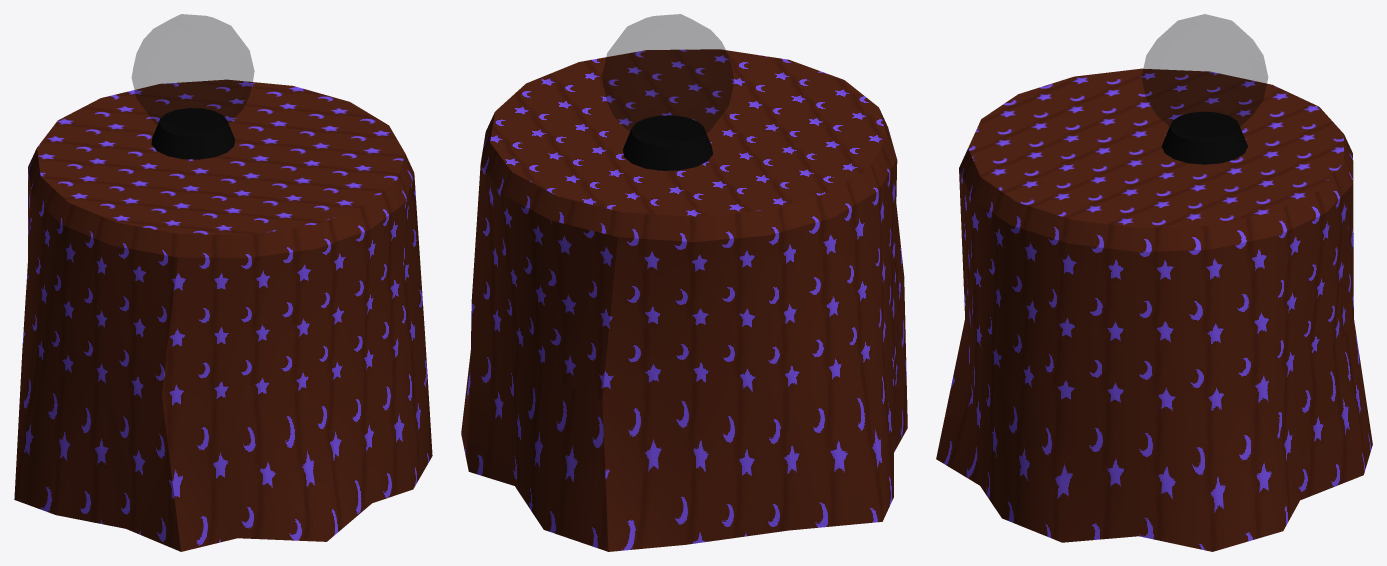
The model's file is propitonisa.FBX.
3 renders of one model, left to right at view 1: azimuth 30°, elevation 25°; view 2: azimuth 150°, elevation 25°; view 3: azimuth 270°, elevation 25°, orthographic. The views are drawn at different scales.
Parts seen in each view (by area): view 1: taula_pitonisa, taula_pitonisa_pla, bola_vidre_pitonisa, bola_base_pitonisa; view 2: taula_pitonisa, taula_pitonisa_pla, bola_vidre_pitonisa, bola_base_pitonisa; view 3: taula_pitonisa, taula_pitonisa_pla, bola_vidre_pitonisa, bola_base_pitonisa.
Part boxes in pixels (x1,y1,x2,y2): taula_pitonisa: (14, 148, 432, 551); taula_pitonisa_pla: (37, 79, 405, 235); bola_vidre_pitonisa: (132, 14, 254, 133); bola_base_pitonisa: (151, 108, 234, 159); taula_pitonisa: (461, 108, 907, 551); taula_pitonisa_pla: (490, 49, 887, 216); bola_vidre_pitonisa: (602, 14, 733, 143); bola_base_pitonisa: (623, 115, 712, 170); taula_pitonisa: (936, 134, 1372, 551); taula_pitonisa_pla: (968, 68, 1343, 228); bola_vidre_pitonisa: (1141, 14, 1267, 138); bola_base_pitonisa: (1161, 111, 1247, 164).
Size of the model in its own units: 1.03 by 1.12 by 1.01.
3 materials, 1 textured.
